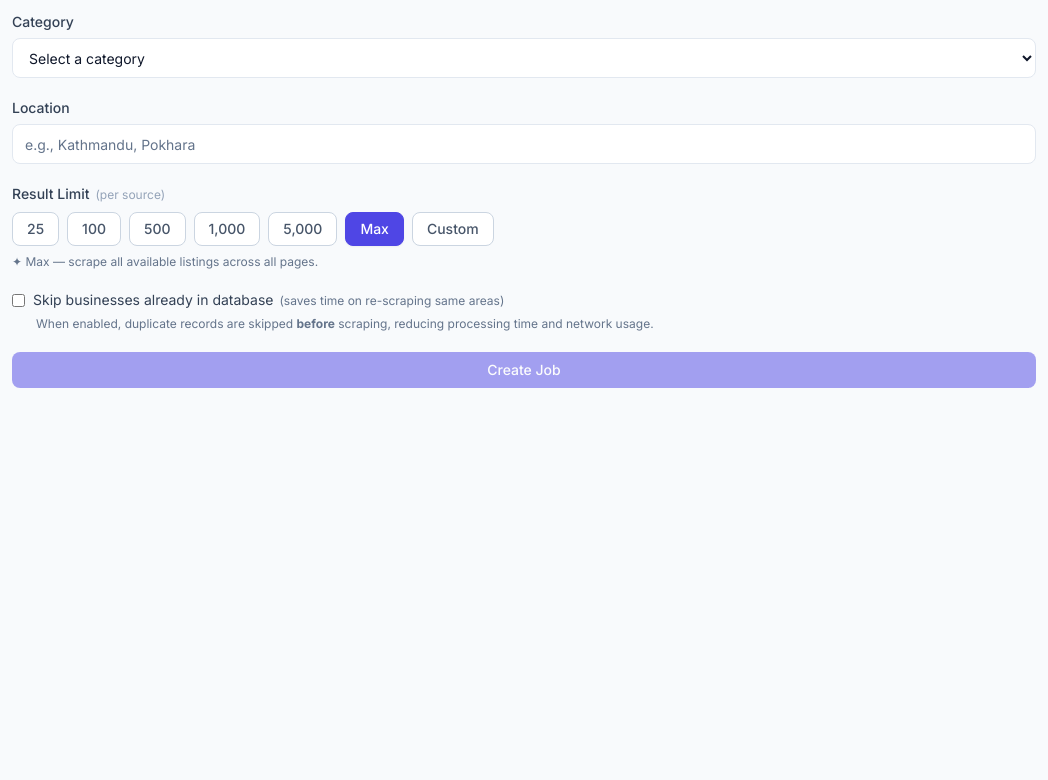
Test: Job Creation Flow Integration › handles source loading errors gracefully
This screenshot has width=1048, height=780.
Select category
Select "Hotels" in the dropdown labelled "Category": (524, 58) 12,38 -> 1036,78
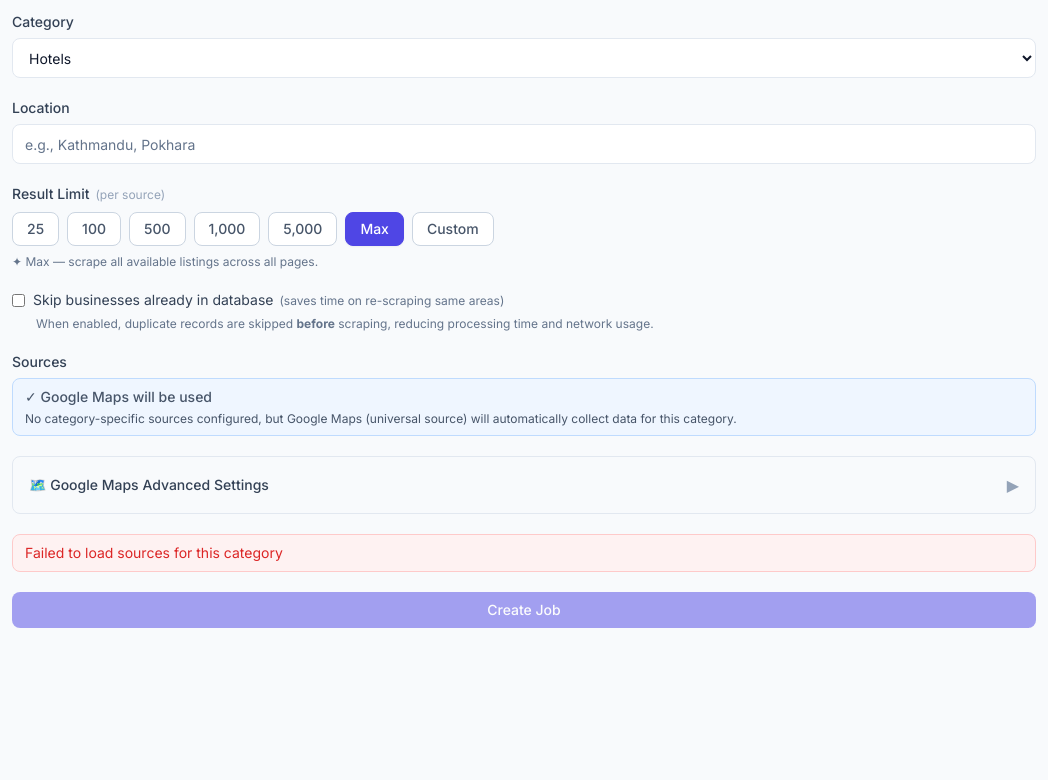
Check: the button "Create Job" is disabled, box 12,592 -> 1036,628
Check: the text "Failed to load sources for this category" is shown, box 12,534 -> 1036,572
